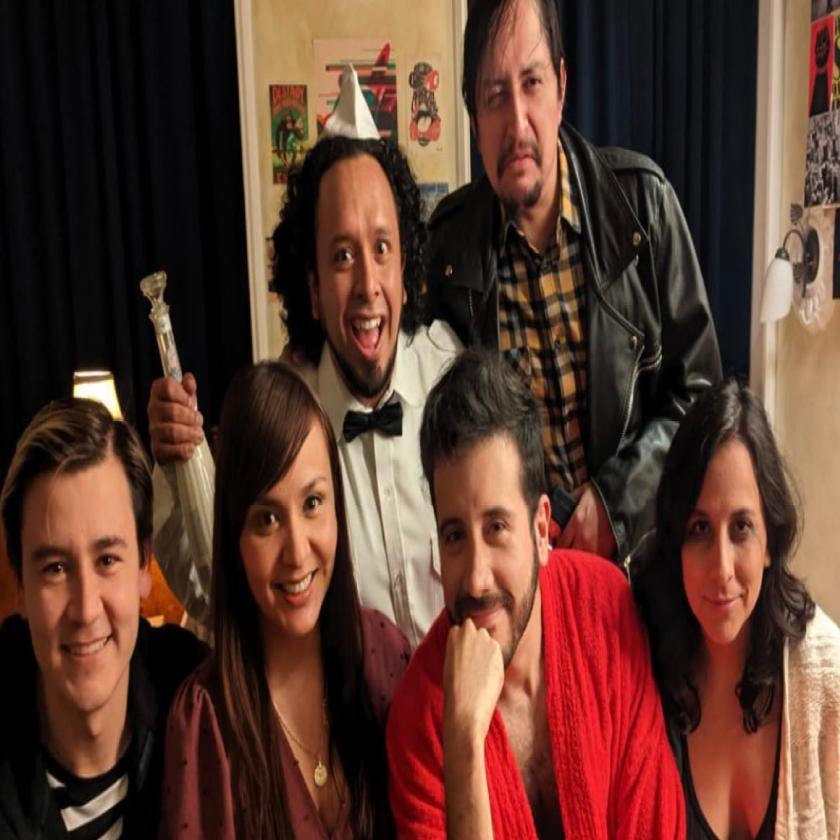Sin_casco: (3, 392, 165, 738), (416, 341, 558, 698), (216, 351, 346, 656), (669, 376, 777, 660), (459, 0, 574, 225)
